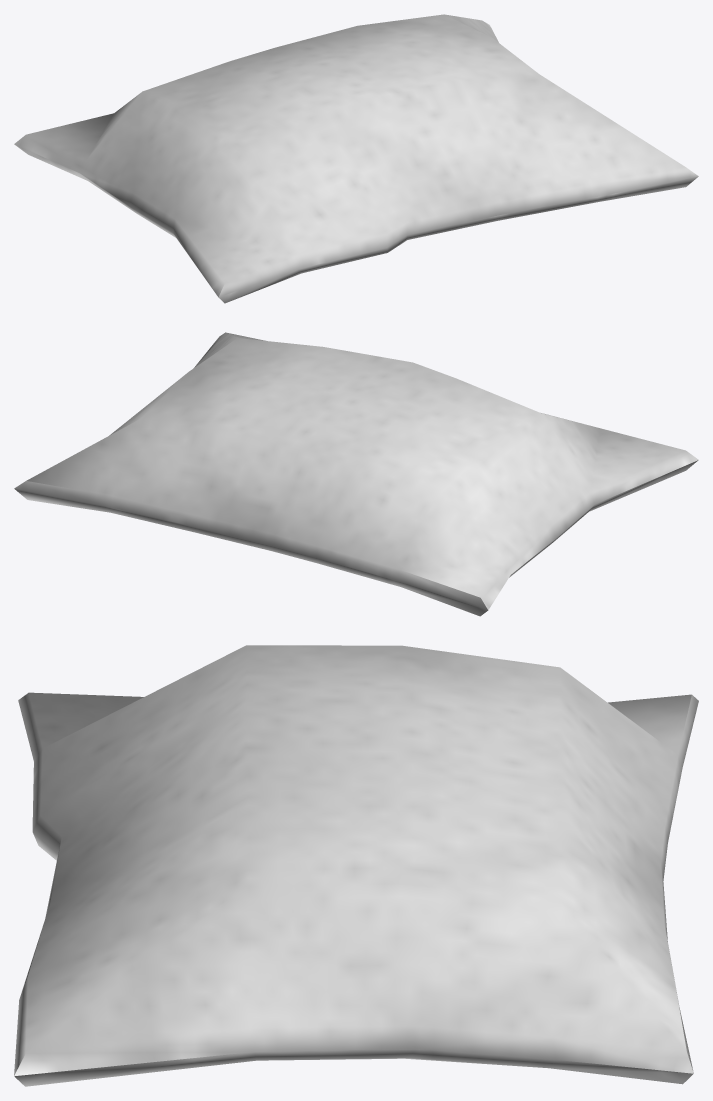
The model's file is Coussin01.fbx.
3 views of the same model, one above another, from view 1: azimuth 30°, elevation 25°; view 2: azimuth 150°, elevation 25°; view 3: azimuth 270°, elevation 25° (orthographic). The views are drawn at different scales.
Visible parts, largest first — view 1: Coussin01; view 2: Coussin01; view 3: Coussin01.
Part boxes in pixels (box(x1,y1,x2,y2)): Coussin01: box(14, 14, 698, 303); Coussin01: box(14, 332, 698, 616); Coussin01: box(14, 645, 698, 1086).
Size of the model in its own units: 1.84 by 1.38 by 0.4748.
